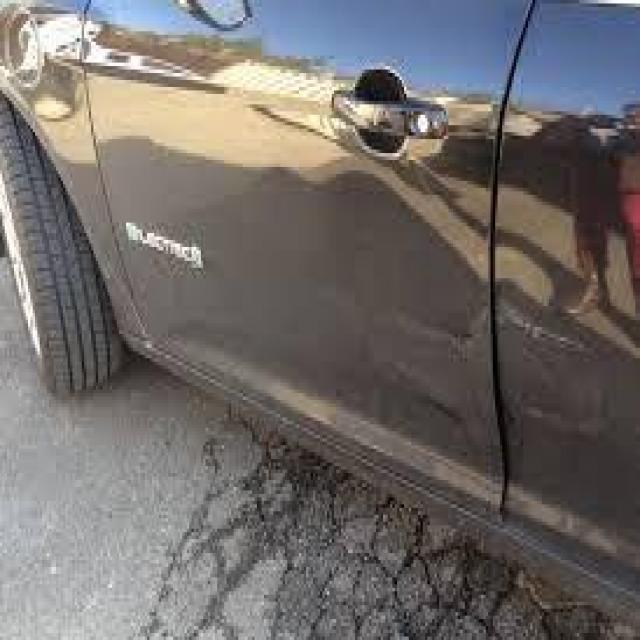damaged: (376, 278, 610, 466)
